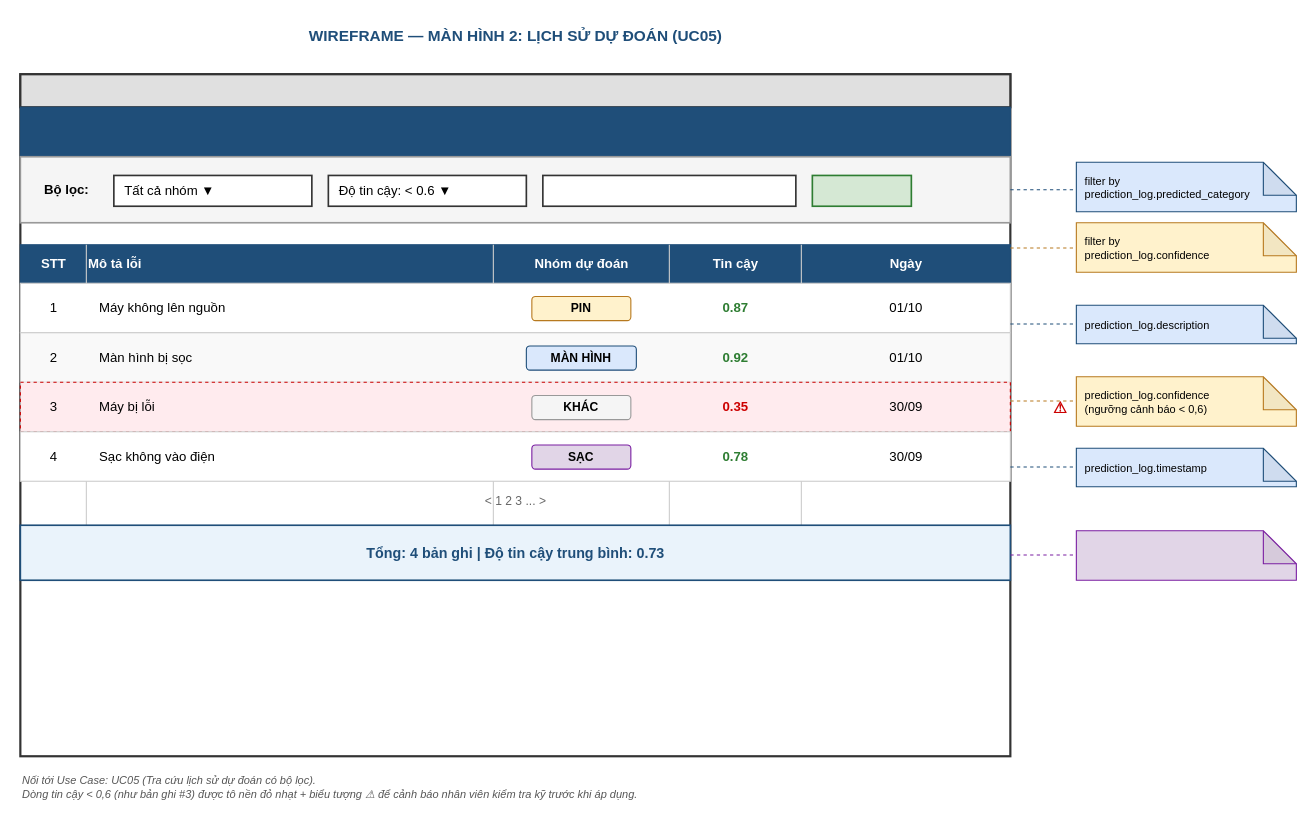
This 1316x840 diagram has some shape labels left out. Here are the shapes that lost their labels. From the top down, the centre of each, then its label:
At [515,90]: "● ● ● Smart CRM — Mekong Mobile".
At [514,131]: "LỊCH SỬ DỰ ĐOÁN".
At [669,190]: "Tìm kiếm...".
At [861,190]: "Áp dụng".
At [1185,555]: "COUNT(*) + AVG(confidence) trên tập kết quả đã lọc".
